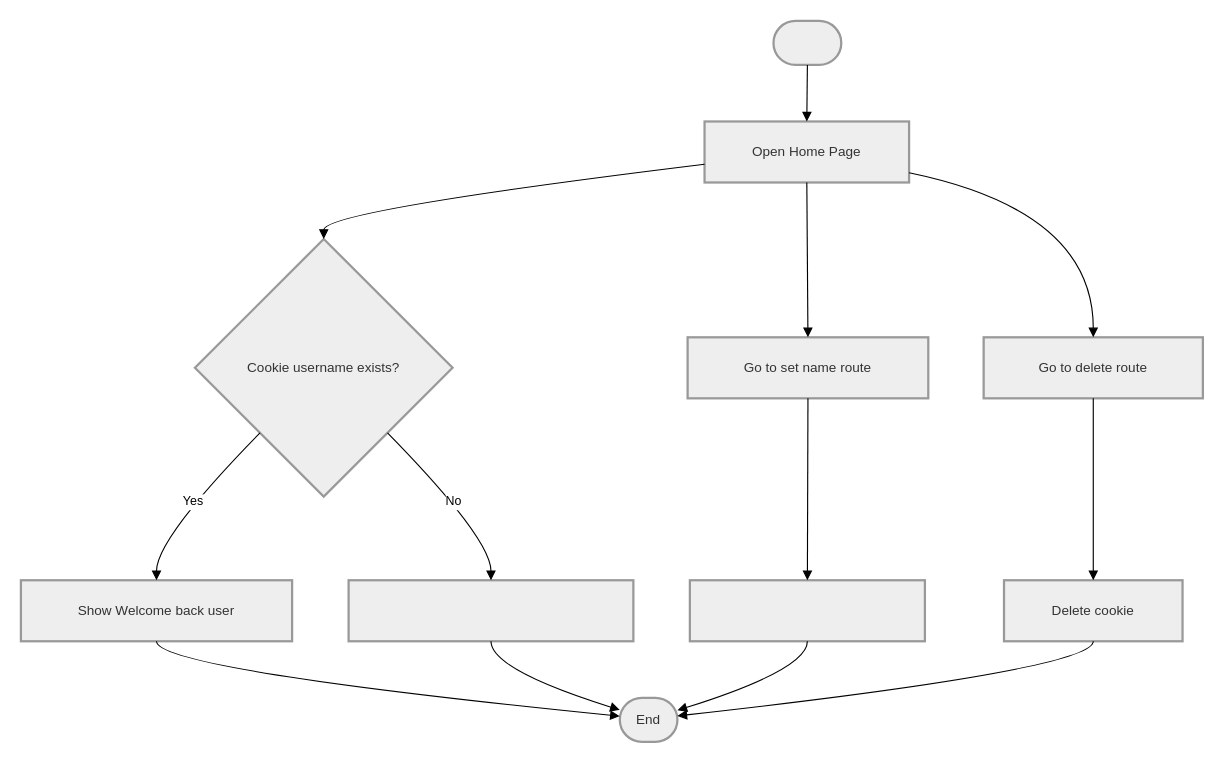
Some shapes in this 1223 by 762 pixel diagram are drawn without their labels. Here are the shapes that lost their labels. From the top down, the centre of each, then its label:
At (x=807, y=42): "Start".
At (x=490, y=610): "Show Please login message".
At (x=806, y=610): "Set cookie username".
